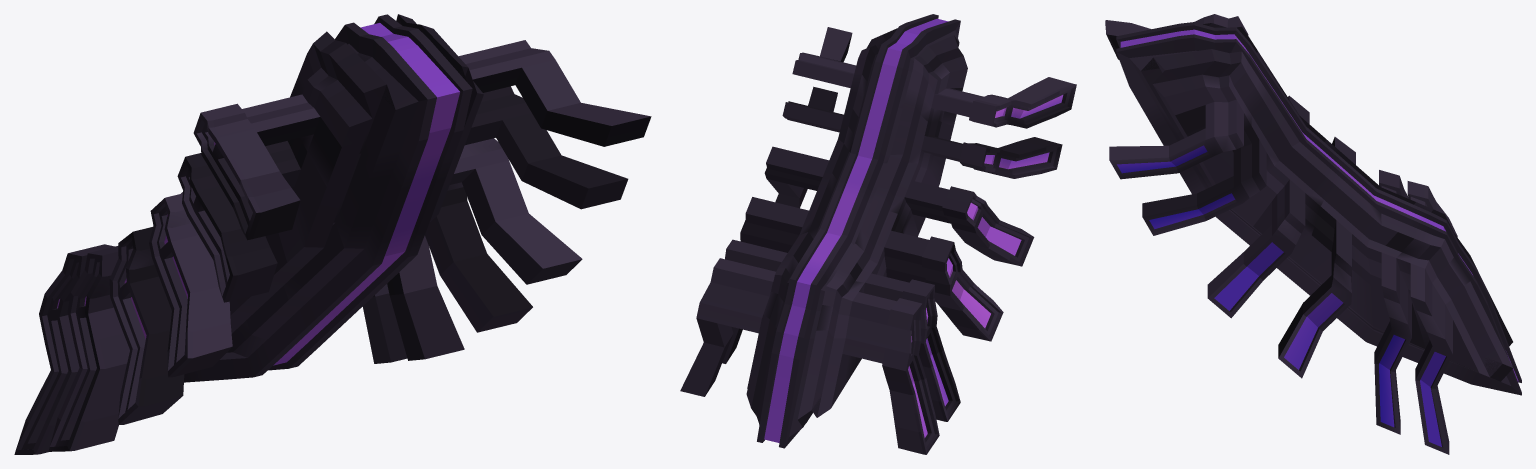
File: TurboEngine.fbx
3 renders of one model, left to right at view 1: azimuth 30°, elevation 25°; view 2: azimuth 150°, elevation 25°; view 3: azimuth 270°, elevation 25°, orthographic. The views are drawn at different scales.
Visible parts, largest first — view 1: TurboEngine; view 2: TurboEngine; view 3: TurboEngine.
Part boxes in pixels (x1,y1,x2,y2): TurboEngine: [14, 14, 651, 454]; TurboEngine: [680, 14, 1076, 454]; TurboEngine: [1105, 14, 1521, 454].
Size of the model in its own units: 0.7929 by 1.01 by 0.9594.
